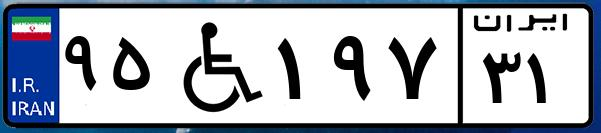1: (270, 28, 330, 110), (525, 38, 570, 115)
3: (475, 38, 525, 113)
5: (110, 28, 158, 98)
7: (385, 28, 445, 110)
9: (330, 28, 385, 110), (57, 26, 110, 100)
ژ (معلولین و جانبازان): (158, 12, 270, 120)
